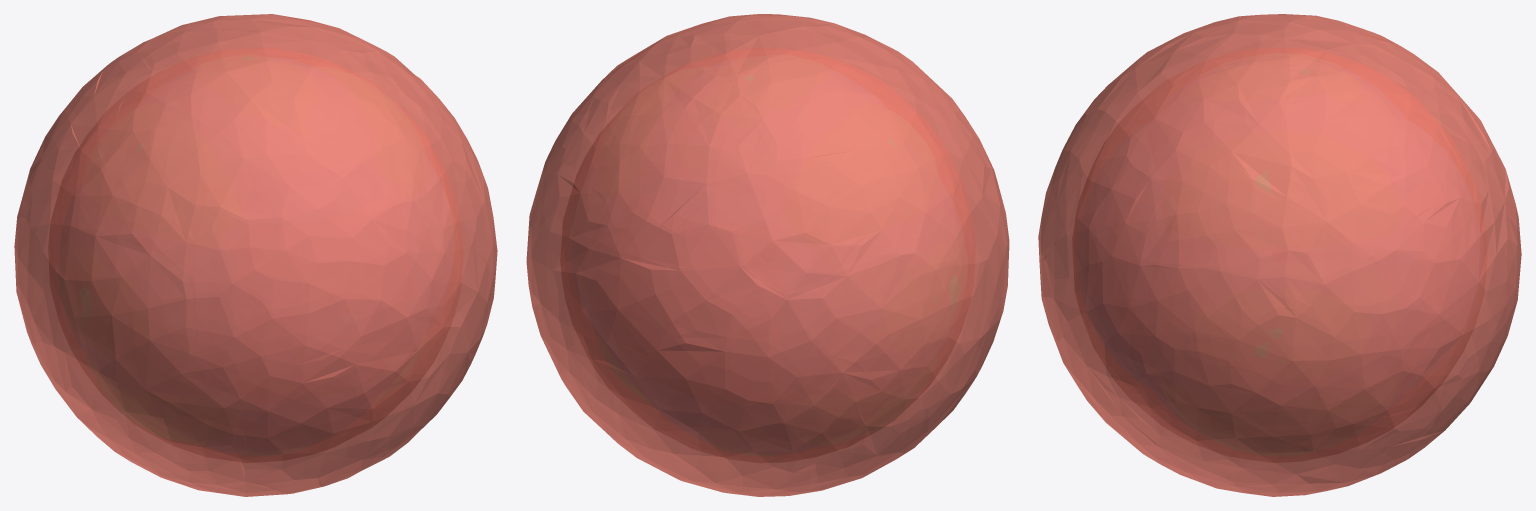
3 views of the same model, side by side, from view 1: azimuth 30°, elevation 25°; view 2: azimuth 150°, elevation 25°; view 3: azimuth 270°, elevation 25° (orthographic).
Parts seen in each view (by area): view 1: Th_n7_s_ml0_node, Th_n6_s_ml0_node; view 2: Th_n7_s_ml0_node, Th_n6_s_ml0_node; view 3: Th_n7_s_ml0_node, Th_n6_s_ml0_node.
Part boxes in pixels (x1=…): Th_n7_s_ml0_node: x1=14, y1=14, x2=497, y2=496; Th_n6_s_ml0_node: x1=48, y1=48, x2=463, y2=462; Th_n7_s_ml0_node: x1=526, y1=14, x2=1009, y2=496; Th_n6_s_ml0_node: x1=560, y1=48, x2=975, y2=462; Th_n7_s_ml0_node: x1=1038, y1=14, x2=1521, y2=496; Th_n6_s_ml0_node: x1=1072, y1=48, x2=1487, y2=462.
Size of the model in its own units: 3.55 by 3.56 by 3.55.
